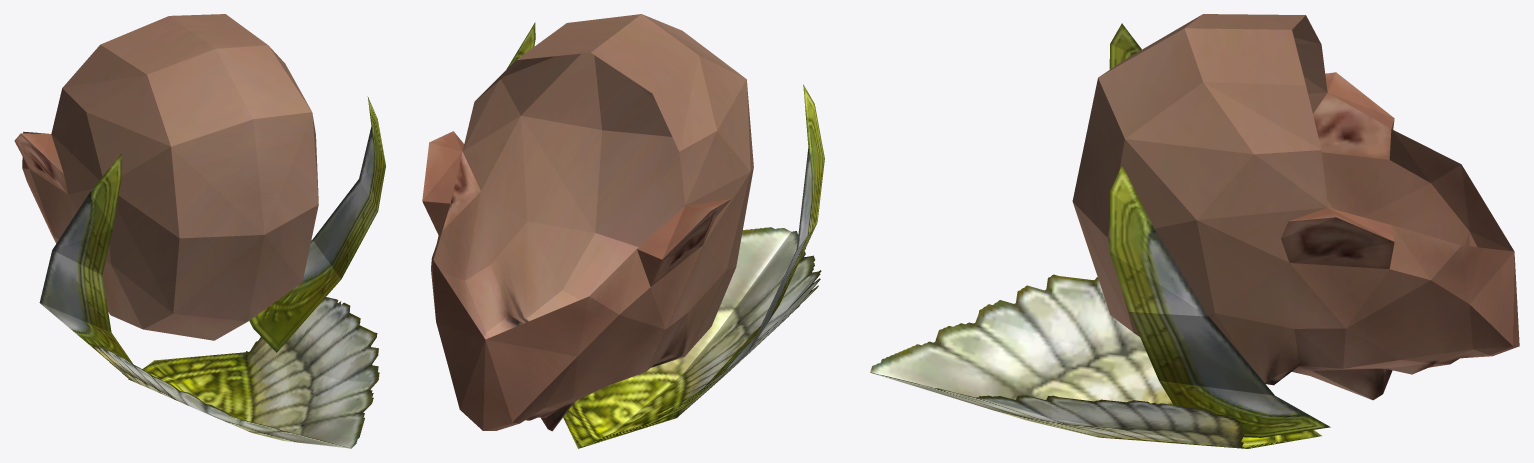
File: common_face_male_2505.obj
3 views of the same model, side by side, from view 1: azimuth 30°, elevation 25°; view 2: azimuth 150°, elevation 25°; view 3: azimuth 270°, elevation 25° (orthographic). The views are drawn at different scales.
Parts seen in each view (by area): view 1: ????A; view 2: ????A; view 3: ????A.
Part boxes in pixels (x1,y1,x2,y2): ????A: (14, 14, 385, 448); ????A: (422, 14, 824, 448); ????A: (870, 14, 1519, 448).
Size of the model in its own units: 9 by 10.19 by 14.45.
Materials: 2 (2 with a texture image).
